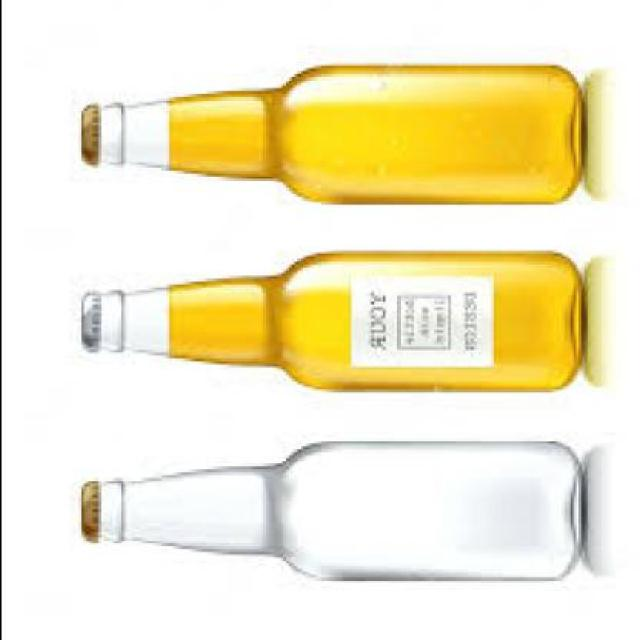GLASS: (100, 248, 580, 389), (94, 438, 574, 574), (97, 63, 577, 199)
METAL: (77, 475, 97, 540), (77, 287, 94, 347), (77, 102, 94, 160)
